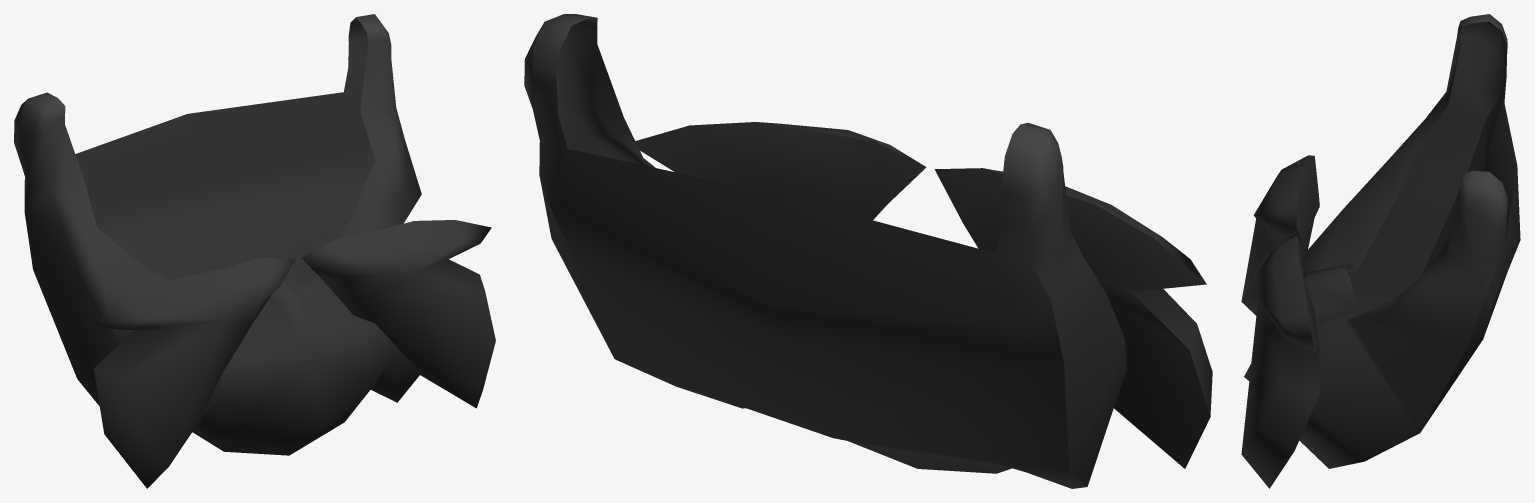
File: Beard_Black_15.fbx
3 renders of one model, left to right at view 1: azimuth 30°, elevation 25°; view 2: azimuth 150°, elevation 25°; view 3: azimuth 270°, elevation 25°, orthographic. The views are drawn at different scales.
Visible parts, largest first — view 1: Beard_Black_15; view 2: Beard_Black_15; view 3: Beard_Black_15.
Boxes of the visible parts, bbox=[...] form: Beard_Black_15: bbox=[14, 14, 495, 488]; Beard_Black_15: bbox=[524, 14, 1212, 488]; Beard_Black_15: bbox=[1241, 14, 1520, 488].
Size of the model in its own units: 57.97 by 45.99 by 34.69.
